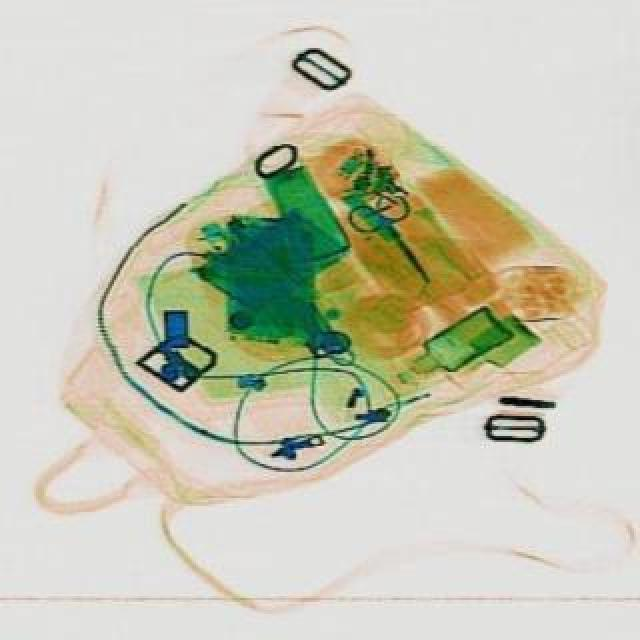pliers: (350, 188, 460, 300)
